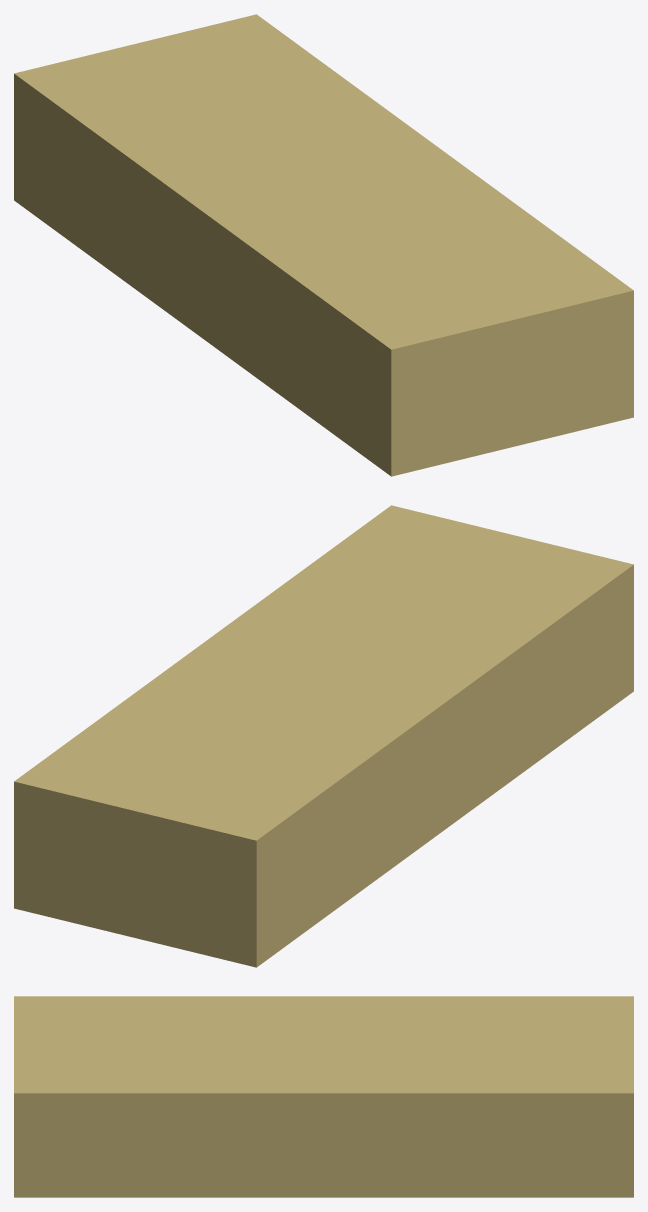
3 renders of one model, top to bottom at view 1: azimuth 30°, elevation 25°; view 2: azimuth 150°, elevation 25°; view 3: azimuth 270°, elevation 25°, orthographic. The views are drawn at different scales.
Visible parts, largest first — view 1: RUN-022-S00-NOG-01; view 2: RUN-022-S00-NOG-01; view 3: RUN-022-S00-NOG-01.
Part boxes in pixels (x1,y1,x2,y2): RUN-022-S00-NOG-01: [14, 14, 633, 476]; RUN-022-S00-NOG-01: [14, 505, 633, 967]; RUN-022-S00-NOG-01: [14, 996, 633, 1197].
Size of the model in its own units: 0.09 by 0.045 by 0.2425.
